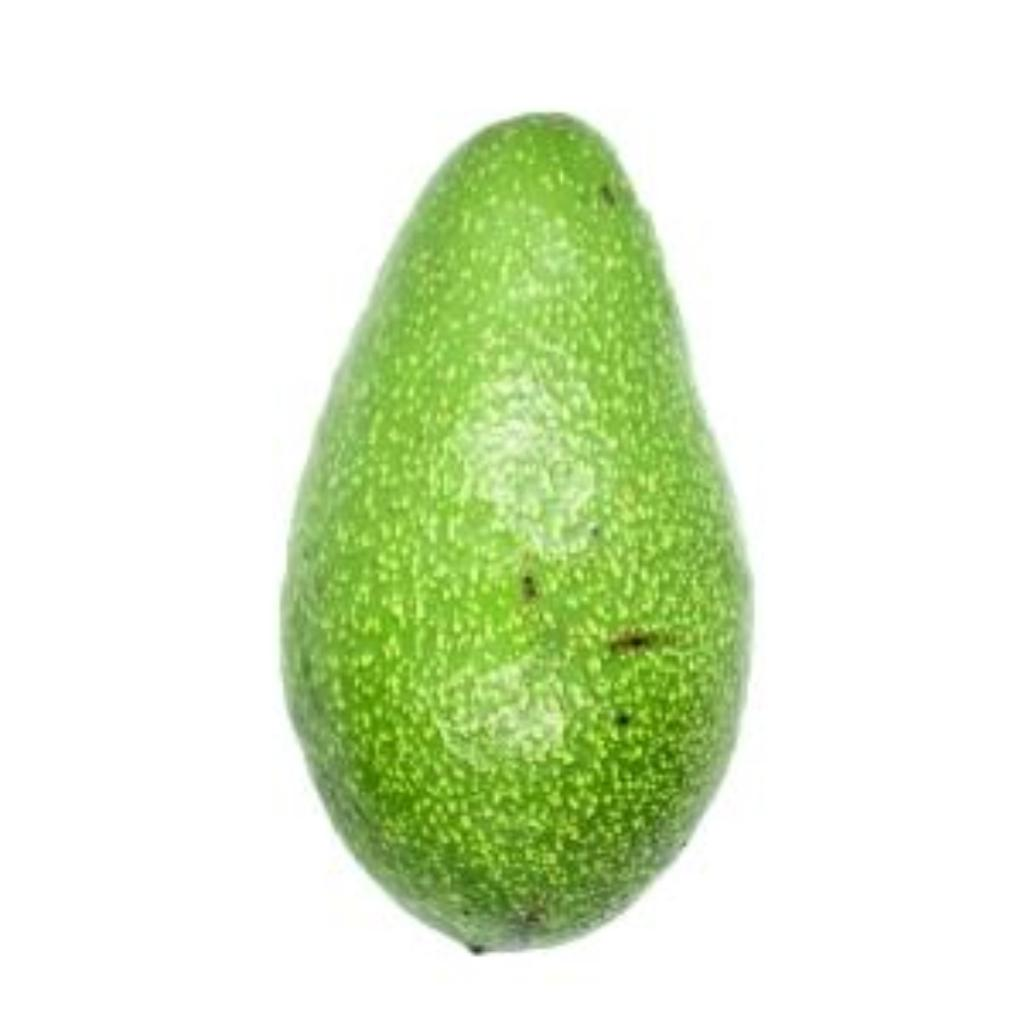cercospora: (287, 92, 775, 960)
